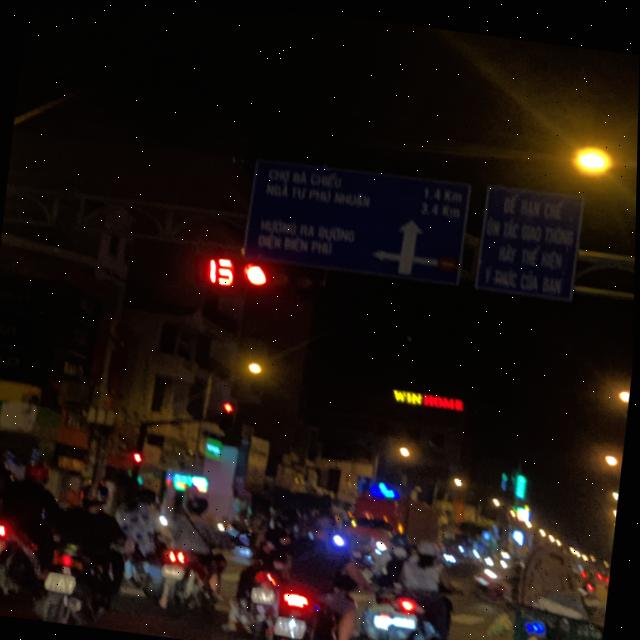Red: (236, 252, 328, 296)
